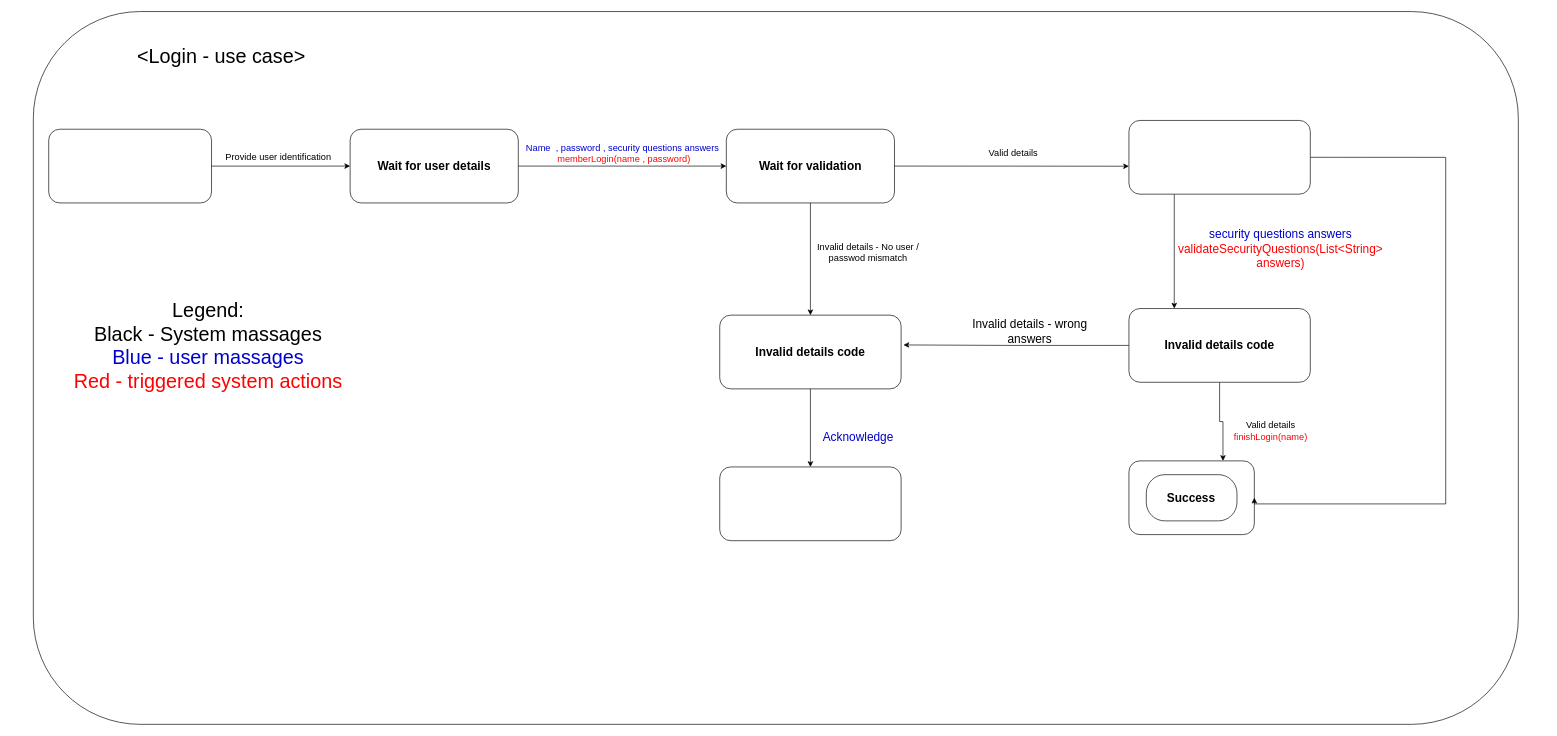
Some shapes in this 1557 by 736 pixel diagram are drawn without their labels. The shapes that lost their labels are listed below. From the top down, each one's box as (x1, y1, x2, y2) in pixels, then its label:
(48, 129, 212, 203): Start
(1128, 120, 1310, 194): Wait for user security answers
(719, 466, 901, 541): Abort
